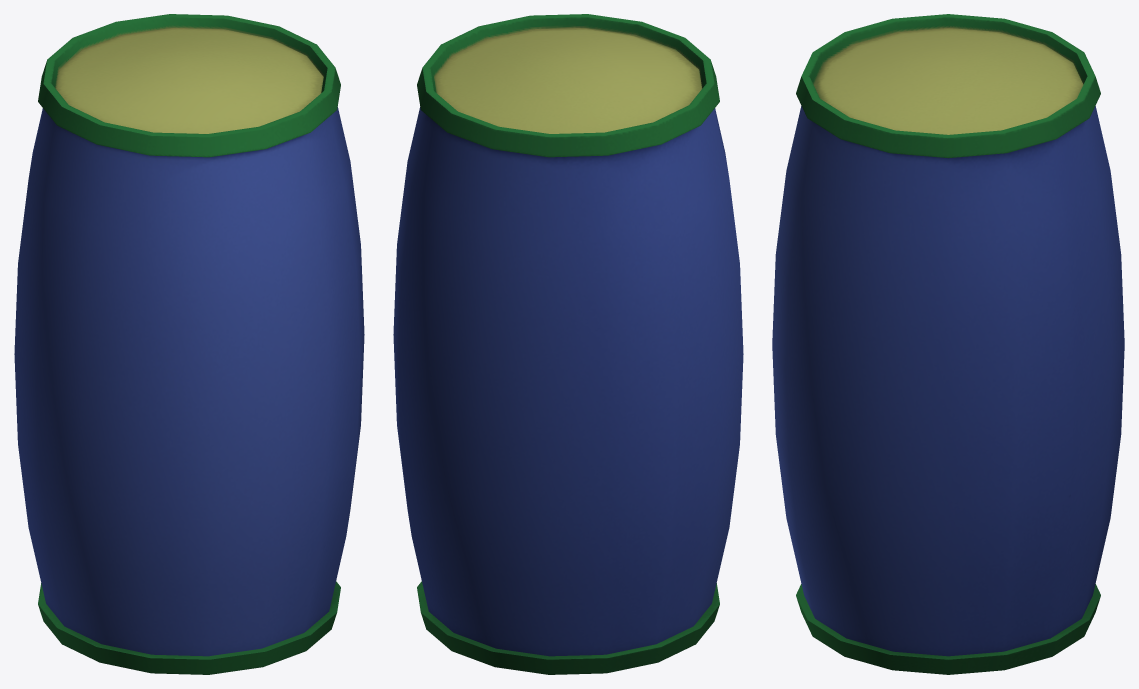
Rendered from Drum.FBX.
3 renders of one model, left to right at view 1: azimuth 30°, elevation 25°; view 2: azimuth 150°, elevation 25°; view 3: azimuth 270°, elevation 25°, orthographic.
Parts seen in each view (by area): view 1: Drum; view 2: Drum; view 3: Drum.
Part boxes in pixels (bbox=[...]): Drum: bbox=[14, 14, 364, 674]; Drum: bbox=[393, 14, 743, 674]; Drum: bbox=[772, 14, 1124, 674].
Size of the model in its own units: 22.76 by 39.71 by 22.76.
